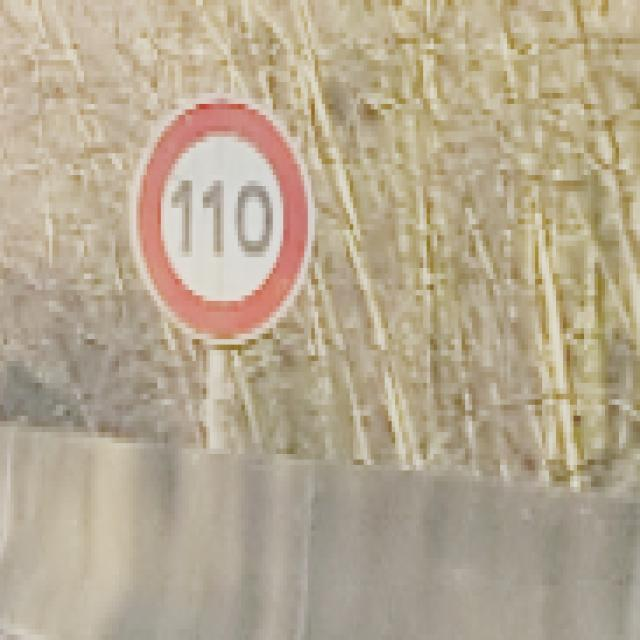speed_110: (130, 92, 316, 350)
